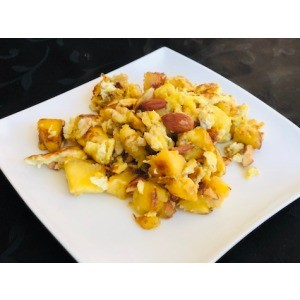egg_brain food: (73, 83, 229, 206)
